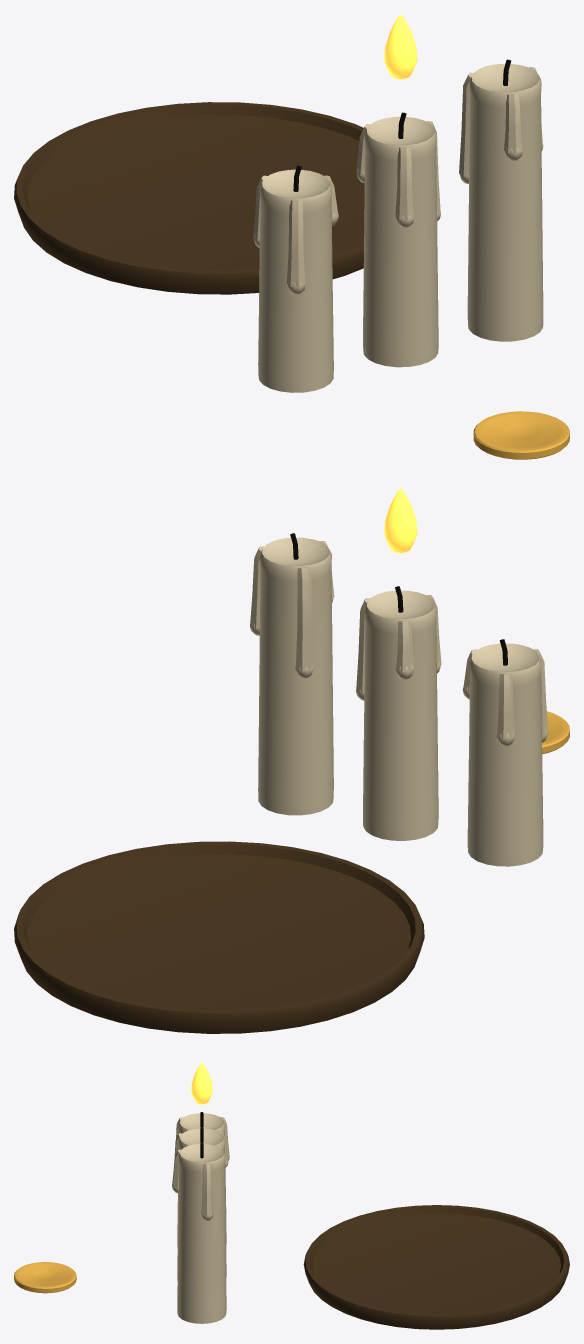
File: table_small.glb
3 views of the same model, one above another, from view 1: azimuth 30°, elevation 25°; view 2: azimuth 150°, elevation 25°; view 3: azimuth 270°, elevation 25° (orthographic). The views are drawn at different scales.
Visible parts, largest first — view 1: Kerzenteller, Kerze_2, Kerze_1, Kerze_0, Muenze, Flamme; view 2: Kerzenteller, Kerze_2, Kerze_1, Kerze_0, Flamme, Muenze; view 3: Kerzenteller, Kerze_2, Muenze, Kerze_1, Kerze_0, Flamme.
Part boxes in pixels (x1,y1,x2,y2): Kerzenteller: (14, 102, 364, 294); Kerze_2: (459, 59, 543, 341); Kerze_1: (356, 112, 440, 367); Kerze_0: (253, 165, 338, 392); Muenze: (473, 411, 569, 459); Flamme: (384, 14, 417, 79); Kerzenteller: (14, 841, 424, 1033); Kerze_2: (250, 533, 334, 815); Kerze_1: (356, 586, 441, 840); Kerze_0: (462, 639, 548, 866); Flamme: (384, 488, 417, 553); Muenze: (542, 711, 569, 753); Kerzenteller: (303, 1205, 569, 1329); Kerze_2: (172, 1142, 226, 1323); Muenze: (14, 1262, 76, 1293); Kerze_1: (174, 1127, 228, 1280); Kerze_0: (176, 1112, 229, 1246); Flamme: (191, 1062, 212, 1104).
Size of the model in its own units: 0.136 by 0.123 by 0.284.
